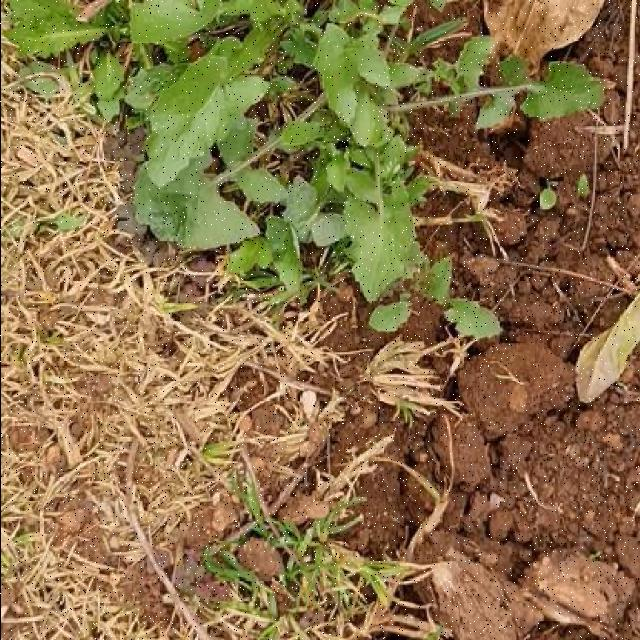weed: (7, 0, 603, 338)
